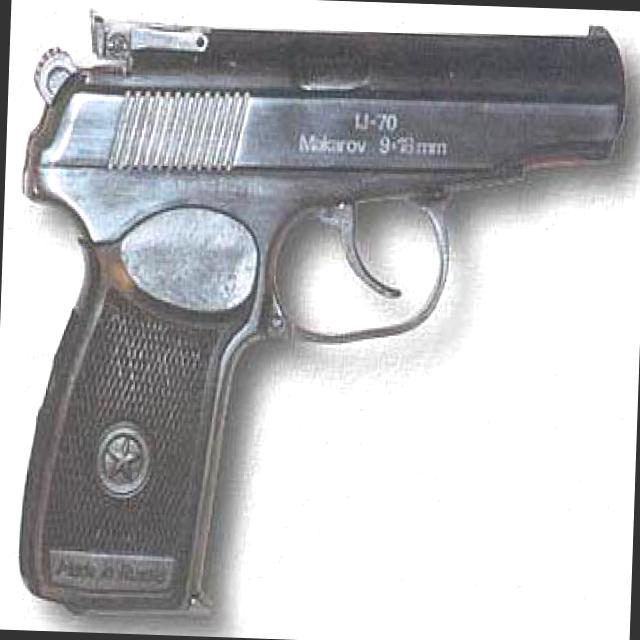handgun: (6, 1, 626, 625)
